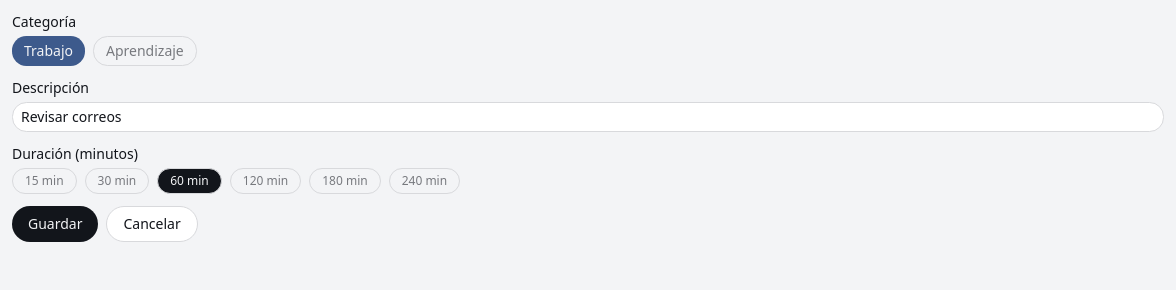
Test: EditEntryForm › shows a validation message and keeps the form when description is empty
The width and height of the screenshot is (1176, 290).
Clear the field labelled "Descripción" at [588, 117], box 12,102 -> 1164,132
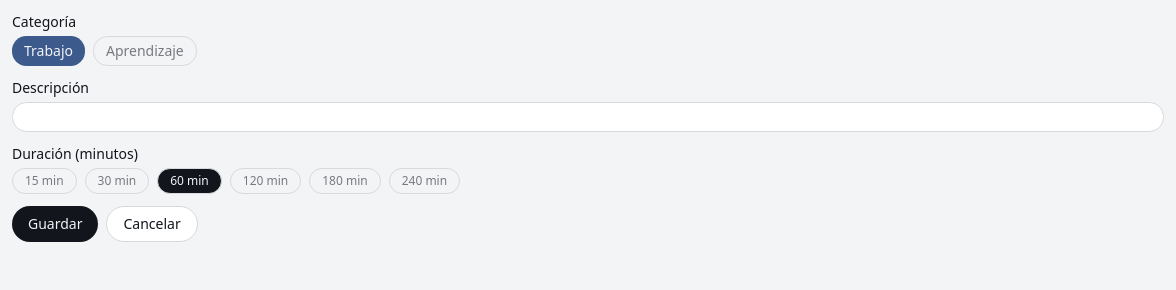
Click the button "Guardar" at [55, 224], box 12,206 -> 98,242
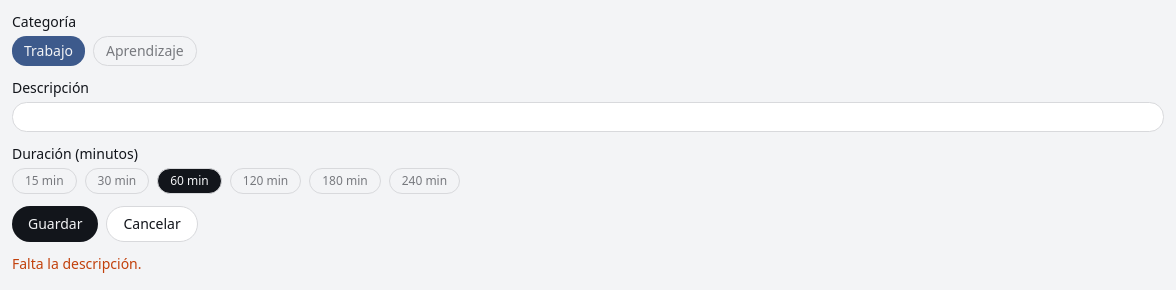
Check: the message shows "descripción", box 12,254 -> 142,273
